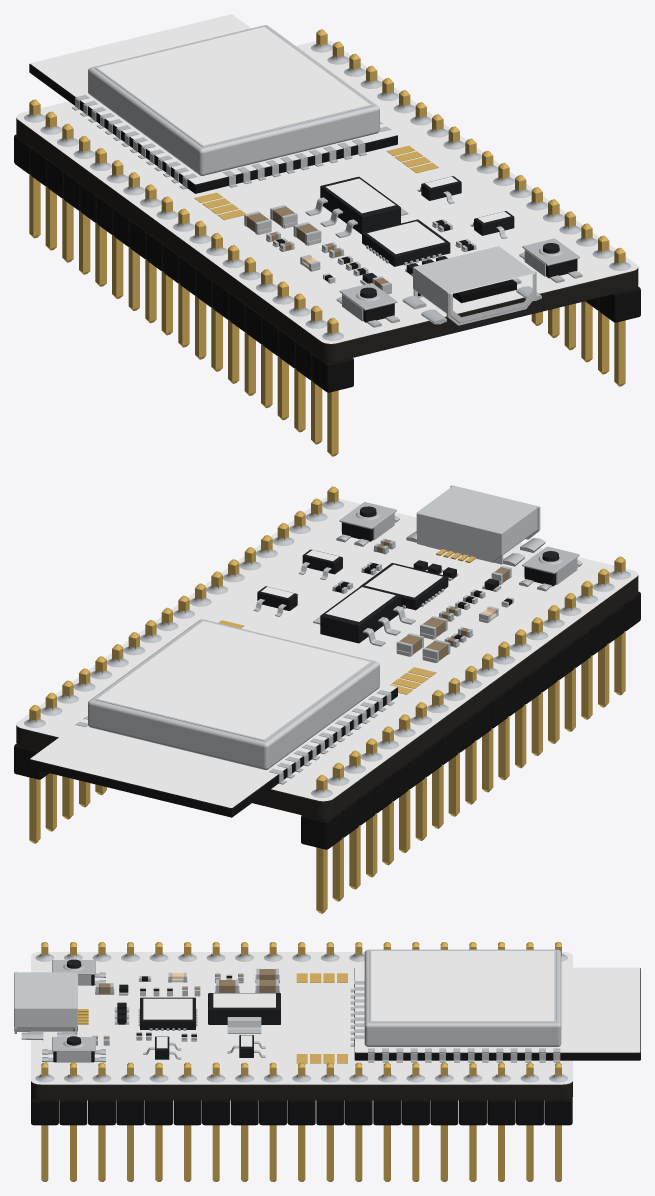
Rendered from esp32-devkitc-v4.glb.
The picture shows the model from 3 angles, top to bottom: view 1: azimuth 30°, elevation 25°; view 2: azimuth 150°, elevation 25°; view 3: azimuth 270°, elevation 25°; orthographic projection. The views are drawn at different scales.
Visible parts, largest first — view 1: pcb_top, header_pins, markings, pcb, header_housing, shield_can, module_top, solder_joints, usb_shell, ic_bodies, module_castellations, module_substrate (+8 smaller); view 2: pcb_top, header_pins, markings, module_top, header_housing, shield_can, pcb, usb_shell, solder_joints, ic_bodies, module_substrate, chip_terminations (+6 smaller); view 3: pcb_top, markings, header_housing, header_pins, pcb, module_top, shield_can, solder_joints, usb_shell, ic_bodies, module_castellations, module_substrate (+5 smaller).
Boxes of the visible parts, box(x1,y1,x2,y2) form: pcb_top: box(16, 40, 638, 343); header_pins: box(29, 29, 625, 456); markings: box(97, 27, 510, 253); pcb: box(16, 118, 638, 362); header_housing: box(14, 134, 640, 392); shield_can: box(88, 25, 379, 175); module_top: box(30, 14, 396, 184); solder_joints: box(24, 43, 630, 340); usb_shell: box(413, 246, 536, 325); ic_bodies: box(320, 176, 514, 266); module_castellations: box(72, 94, 391, 189); module_substrate: box(29, 64, 397, 193); pcb_top: box(16, 497, 638, 801); header_pins: box(29, 486, 625, 913); markings: box(97, 550, 442, 739); module_top: box(30, 683, 396, 807); header_housing: box(14, 591, 640, 849); shield_can: box(88, 619, 379, 769); pcb: box(16, 575, 638, 819); usb_shell: box(416, 485, 540, 564); solder_joints: box(24, 500, 630, 797); ic_bodies: box(257, 549, 448, 643); module_substrate: box(29, 687, 397, 817); chip_terminations: box(332, 538, 513, 663); pcb_top: box(31, 952, 572, 1084); markings: box(143, 951, 554, 1048); header_housing: box(31, 1097, 572, 1125); header_pins: box(41, 942, 561, 1181); pcb: box(31, 1081, 572, 1100); module_top: box(355, 967, 640, 1052); shield_can: box(364, 949, 561, 1046); solder_joints: box(35, 953, 567, 1082); usb_shell: box(14, 971, 77, 1035); ic_bodies: box(140, 993, 280, 1059); module_castellations: box(350, 981, 560, 1062); module_substrate: box(354, 968, 640, 1060).
Bounding box in the file's own units: 27.94 × 13.27 × 55.81.
